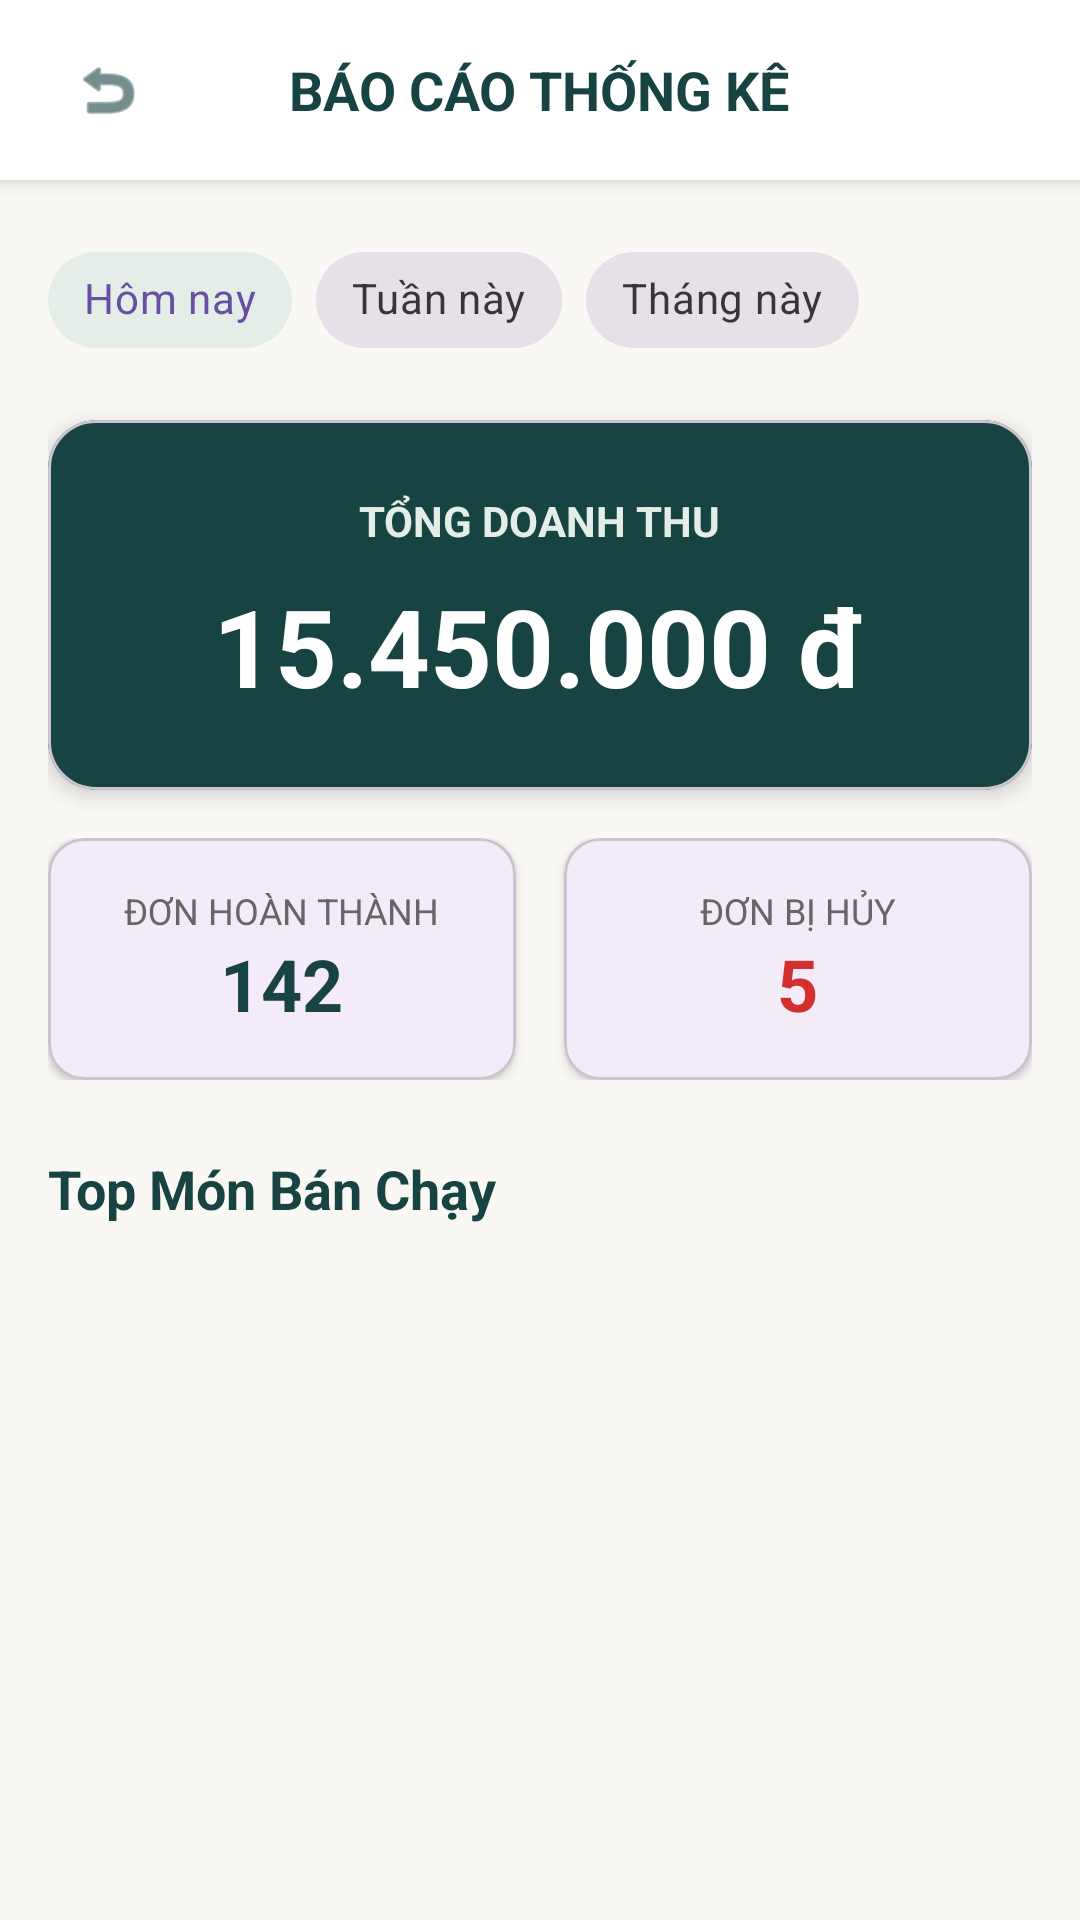

Icons on this 1080x1920 Android screen, each with the point to tap as point (x, y):
revert: point (109, 90)
